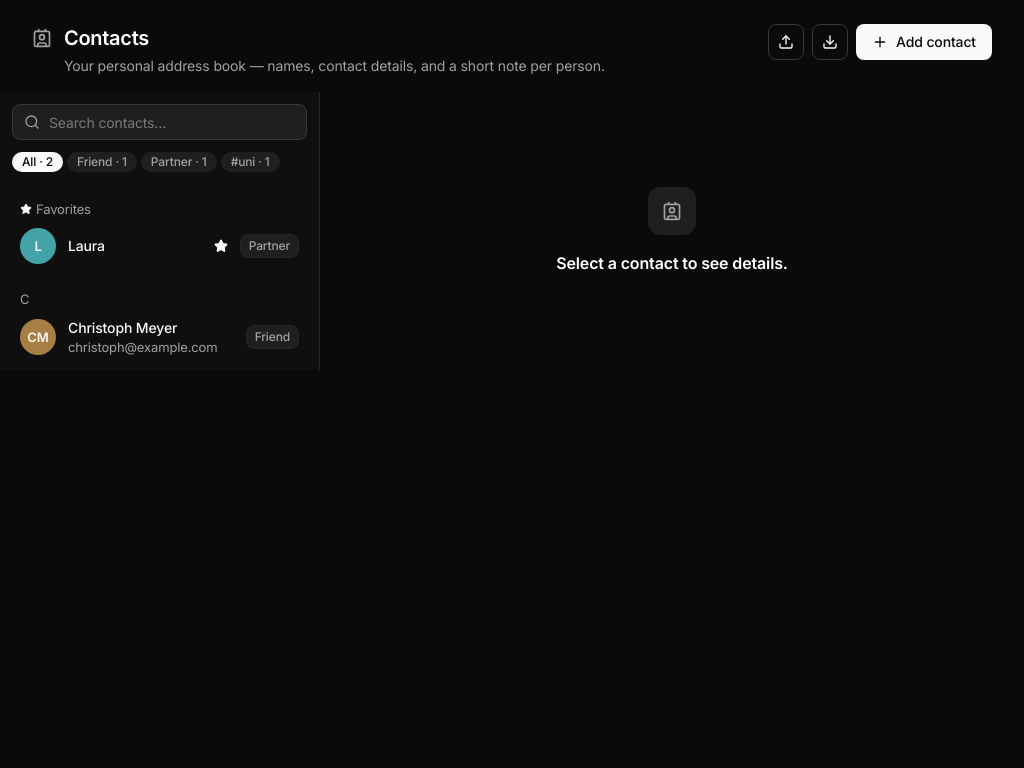
Test: ContactsView (master–detail) › selecting a contact loads and shows its details
Click the button "CM Christoph Meyer christoph@example.com Friend" at [160, 337], box left=8, top=312, right=311, bottom=362
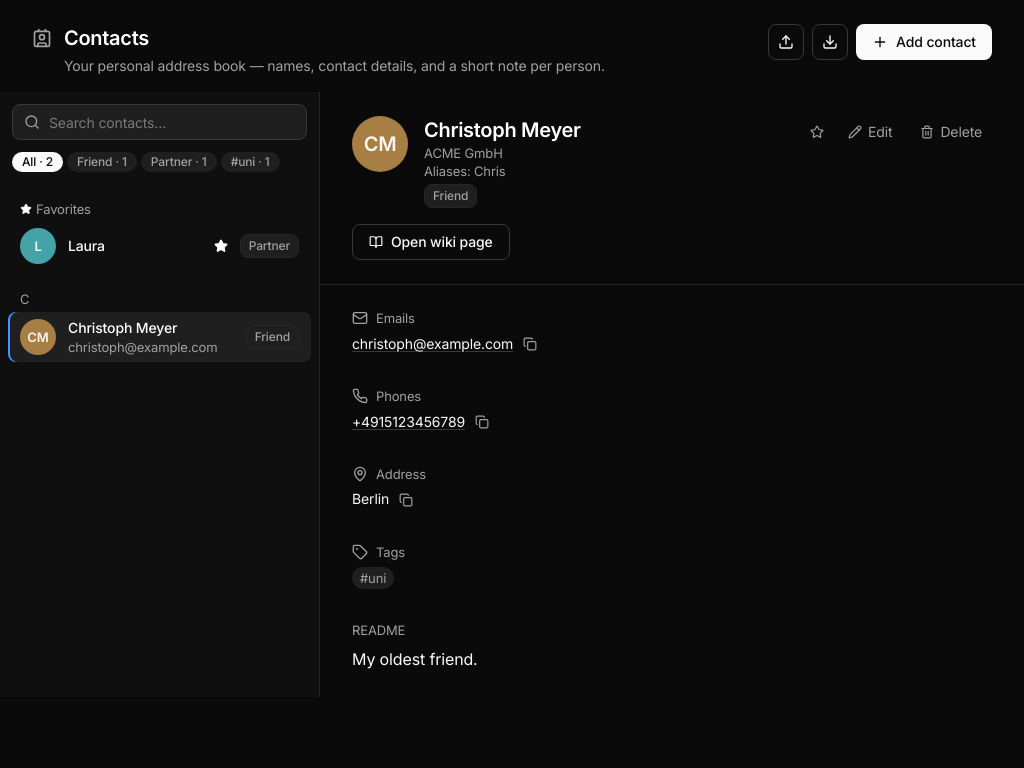
Result: the text "My oldest friend." is shown at left=352, top=649, right=478, bottom=669
